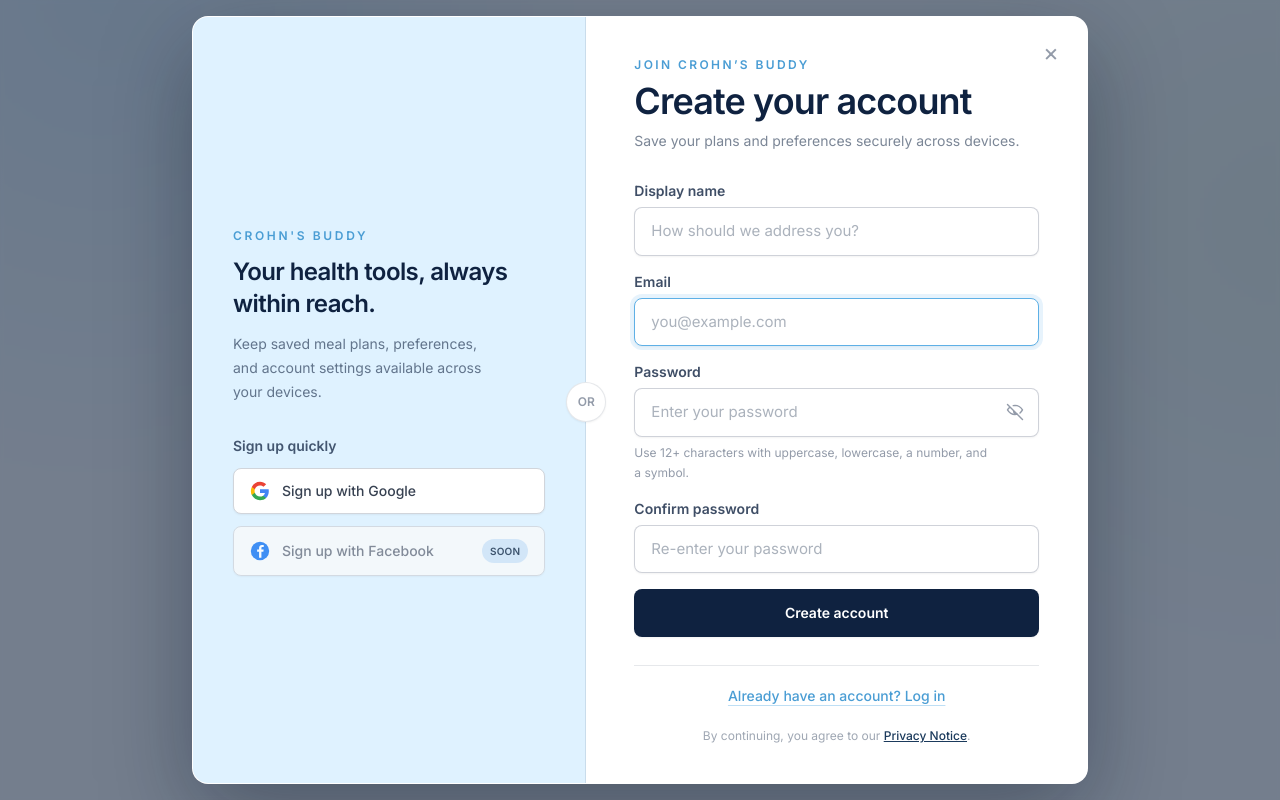
Test: account modal › creates an account and advances to email verification
Type "Avery" into the field labelled "Display name". click: (837, 231)
box: left=634, top=207, right=1039, bottom=256
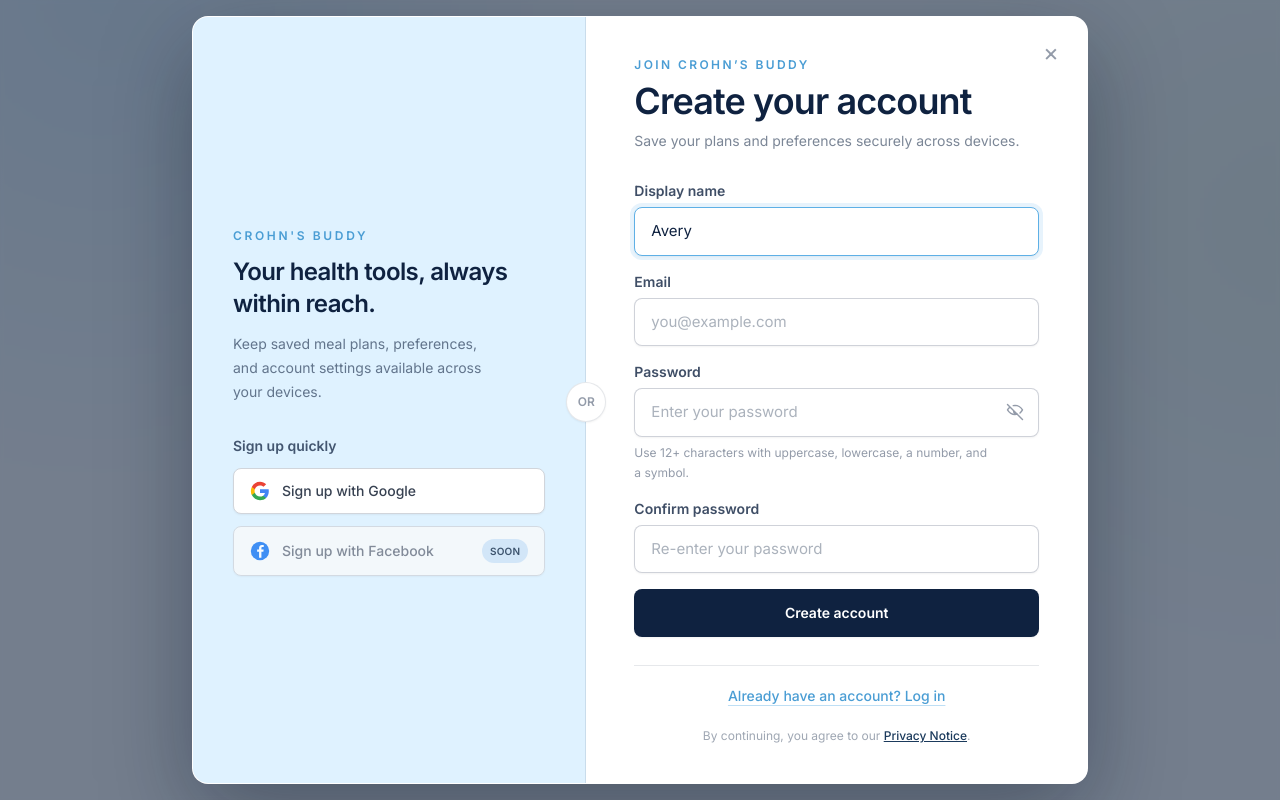
Type "avery@example.com" into the field labelled "Email". click: (837, 322)
box: left=634, top=298, right=1039, bottom=346
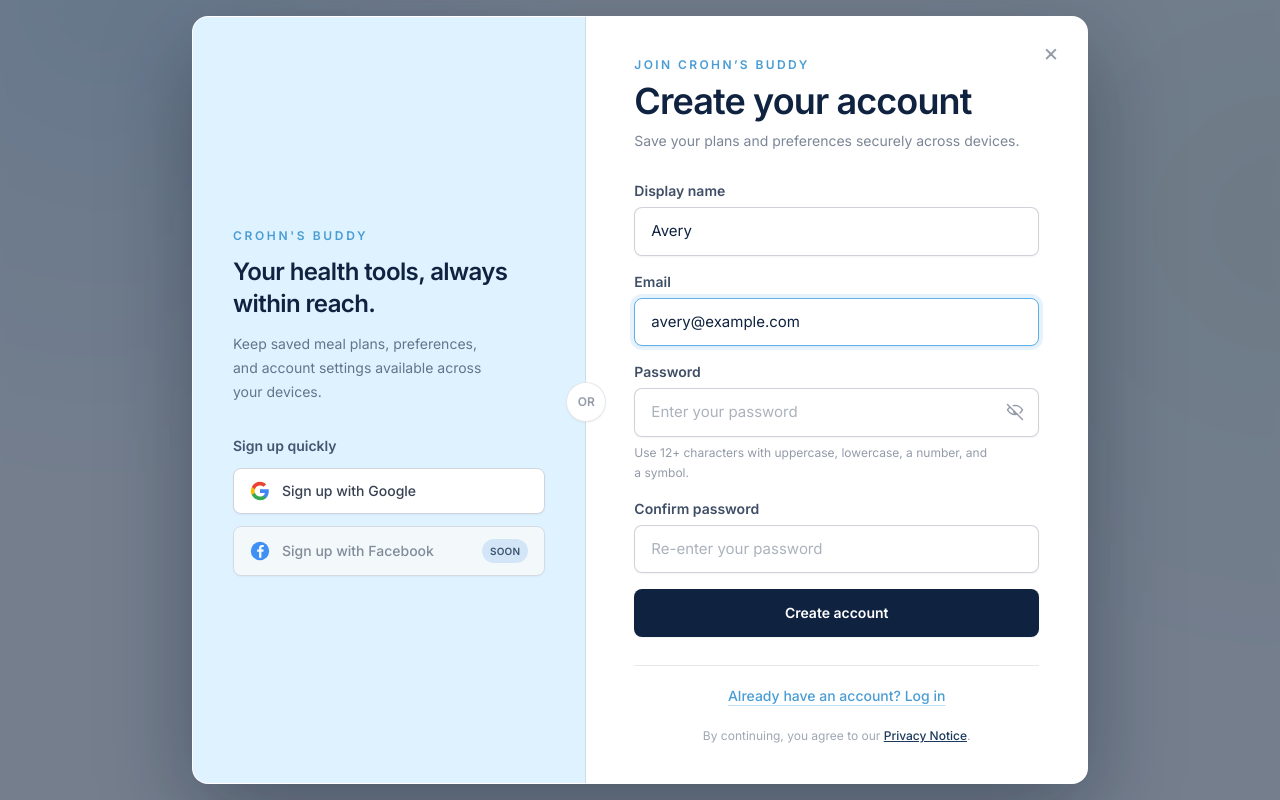
Type "Strong!Password1" into the password field labelled "Password". click: (837, 412)
box: left=634, top=388, right=1039, bottom=436
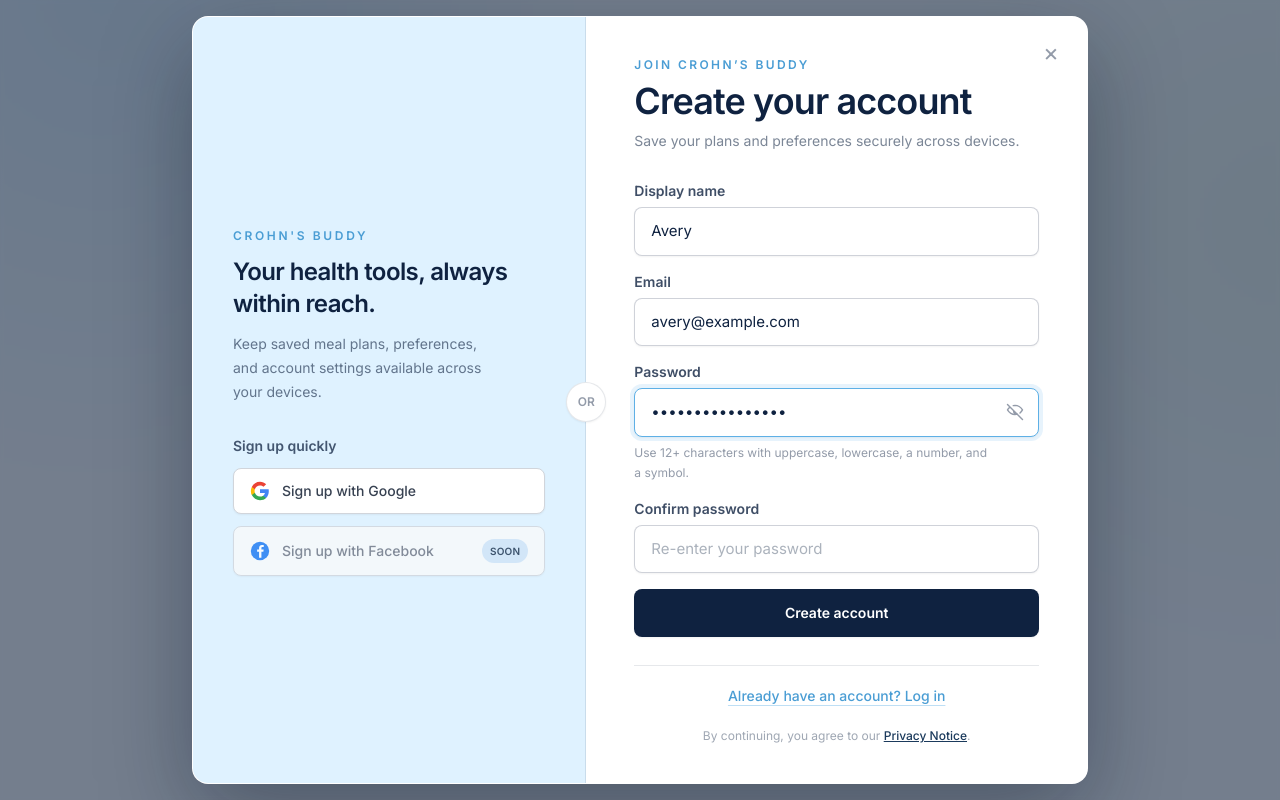
Type "Strong!Password1" into the password field labelled "Confirm password". click: (837, 549)
box: left=634, top=524, right=1039, bottom=573
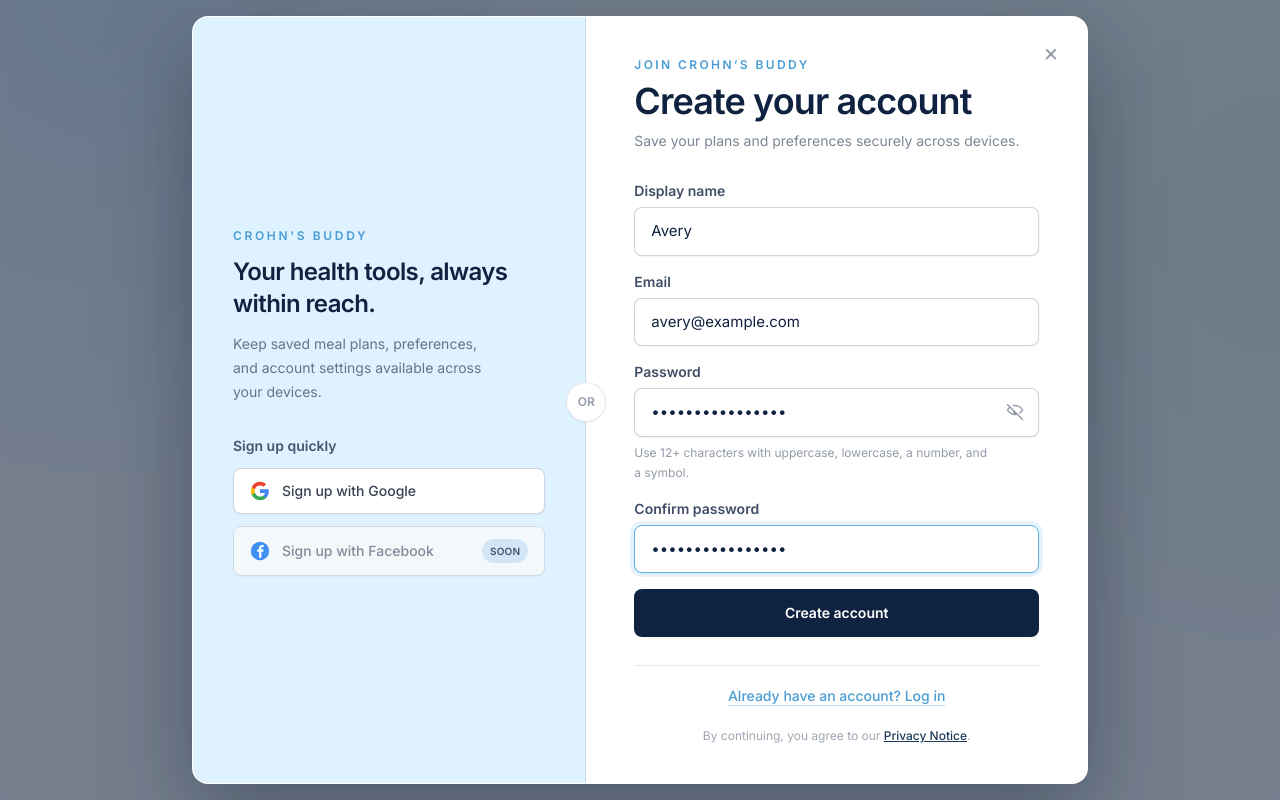
Click the button "Create account". click: (837, 613)
box: left=634, top=589, right=1039, bottom=637
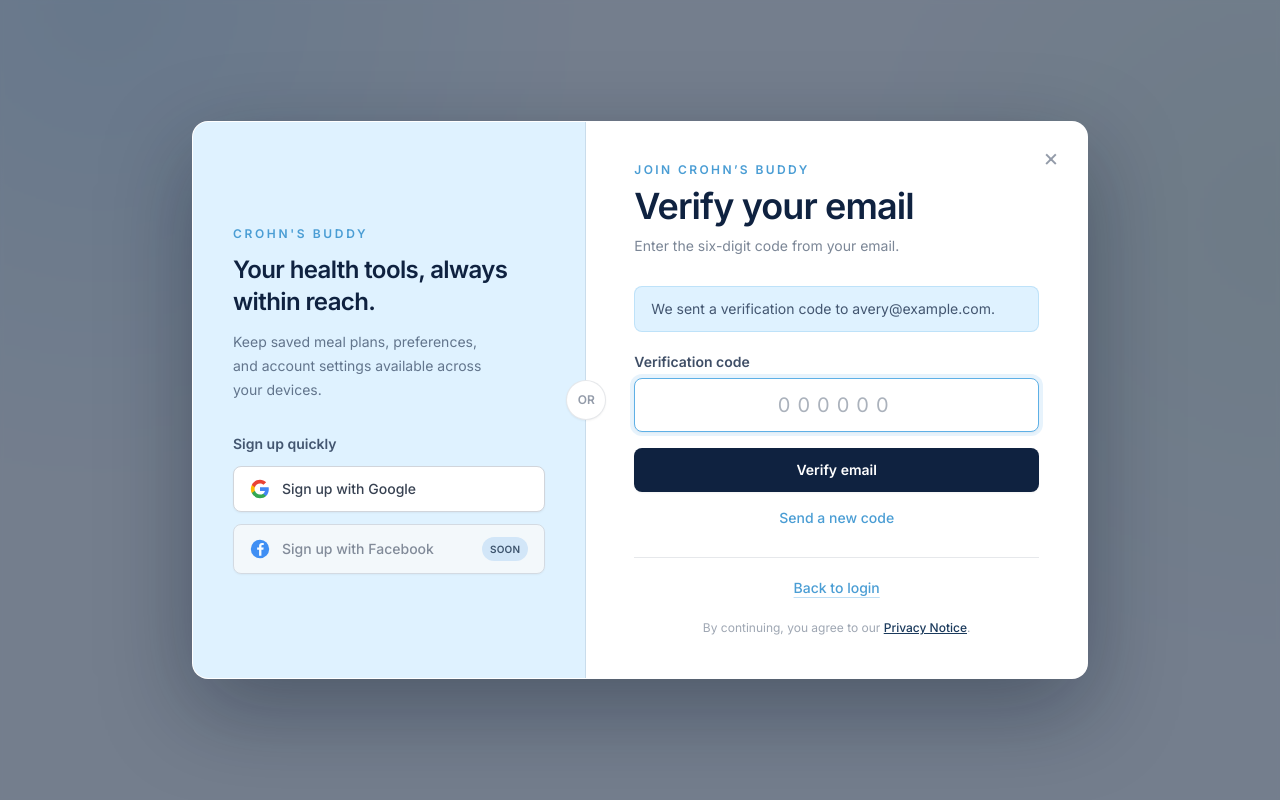
Now the heading "Verify your email" is shown, box left=634, top=184, right=914, bottom=228
